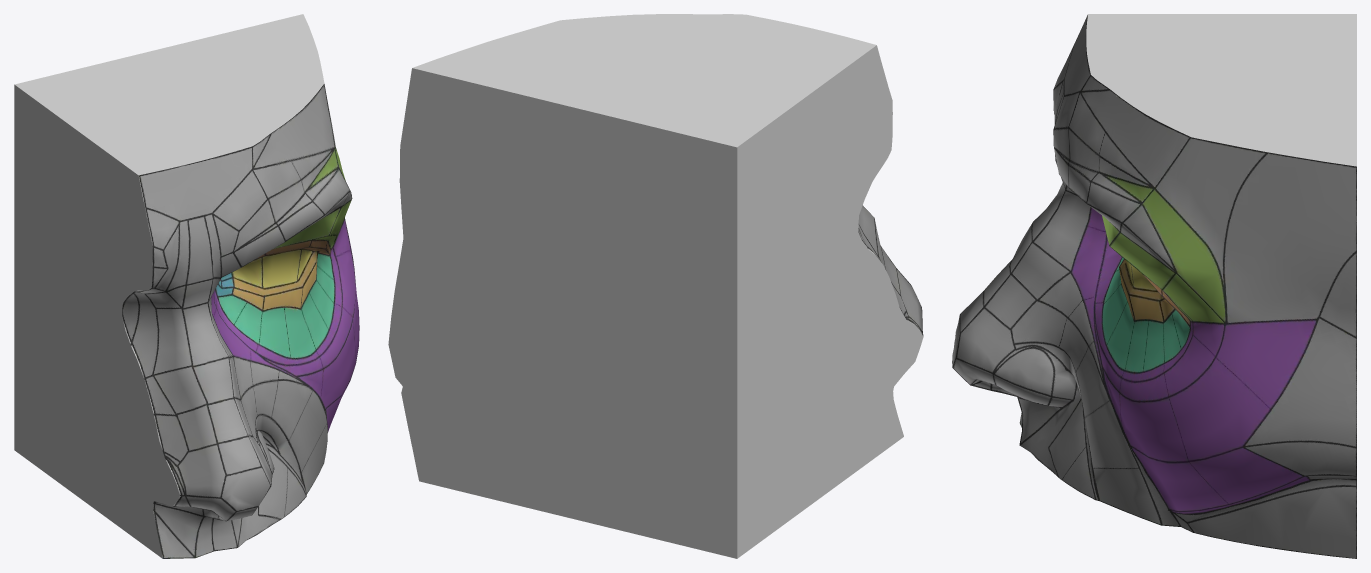
Rendered from 五官_opt_opt.glb.
3 views of the same model, side by side, from view 1: azimuth 30°, elevation 25°; view 2: azimuth 150°, elevation 25°; view 3: azimuth 270°, elevation 25° (orthographic). The views are drawn at different scales.
Visible parts, largest first — view 1: Back, Face; view 2: Back, Face; view 3: Face, Back.
Part boxes in pixels (box(x1,y1,x2,y2)): Back: box(14, 14, 324, 558); Face: box(122, 84, 359, 558); Back: box(388, 14, 923, 558); Face: box(858, 205, 923, 336); Face: box(952, 15, 1356, 558); Back: box(1086, 14, 1356, 166).
Bounding box in the file's own units: 0.3547 × 0.4 × 0.3707.
2 materials, 1 textured.
